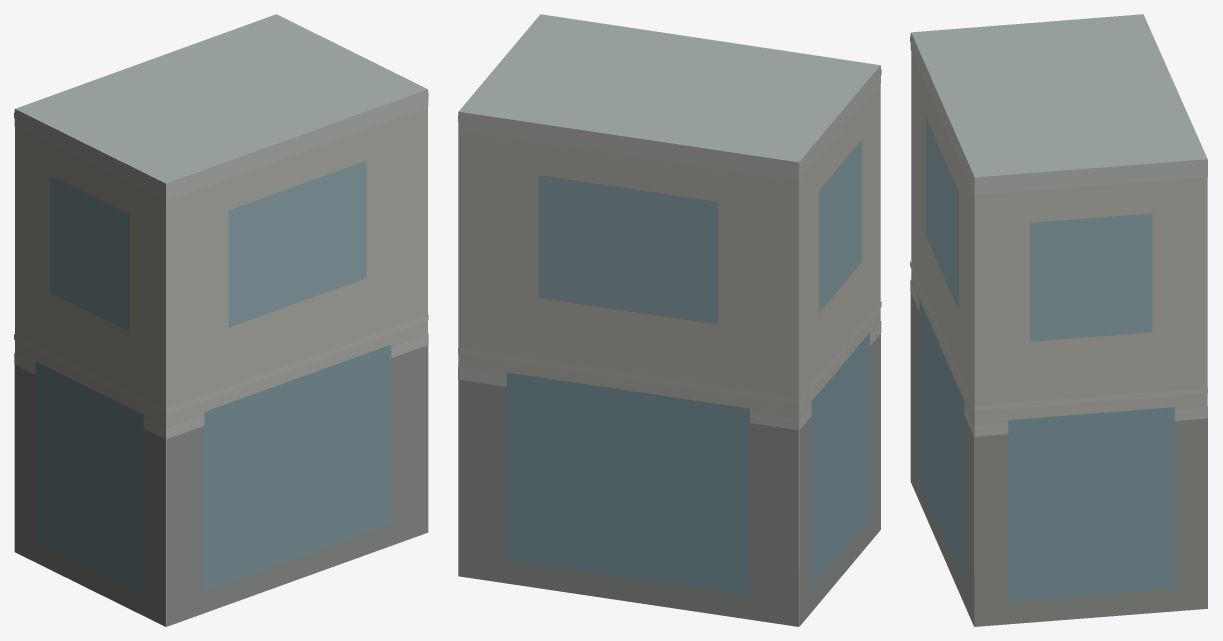
File: survey-upis-32633971.glb
3 renders of one model, left to right at view 1: azimuth 30°, elevation 25°; view 2: azimuth 150°, elevation 25°; view 3: azimuth 270°, elevation 25°, orthographic. The views are drawn at different scales.
Visible parts, largest first — view 1: survey-upis-32633971.tmp; view 2: survey-upis-32633971.tmp; view 3: survey-upis-32633971.tmp.
Boxes of the visible parts, <box> form: survey-upis-32633971.tmp: <box>14,14,428,626</box>; survey-upis-32633971.tmp: <box>458,14,881,626</box>; survey-upis-32633971.tmp: <box>910,14,1207,626</box>.
Size of the model in its own units: 4.78 by 6.1 by 3.68.
